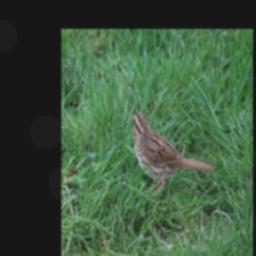Sparrow: (129, 106, 216, 195)
